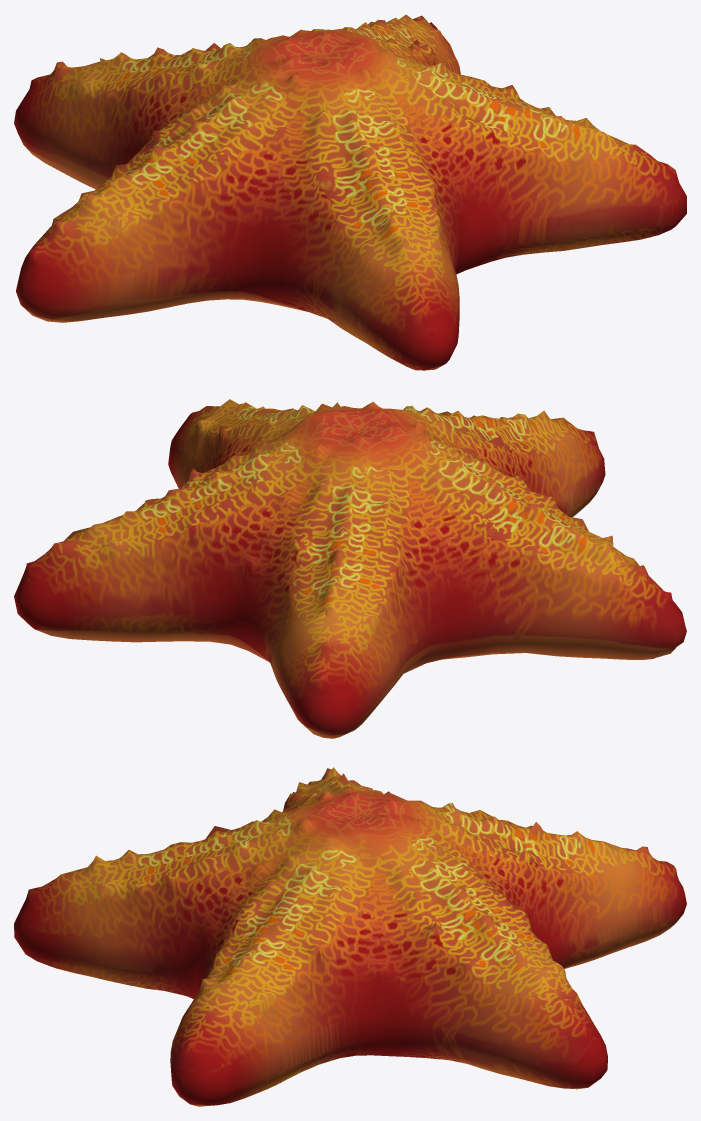
File: starfish.glb
3 views of the same model, one above another, from view 1: azimuth 30°, elevation 25°; view 2: azimuth 150°, elevation 25°; view 3: azimuth 270°, elevation 25° (orthographic). The views are drawn at different scales.
Visible parts, largest first — view 1: Object_2; view 2: Object_2; view 3: Object_2.
Part boxes in pixels (bbox=[...]): Object_2: bbox=[14, 14, 686, 370]; Object_2: bbox=[14, 399, 686, 738]; Object_2: bbox=[14, 767, 686, 1106].
Bounding box in the file's own units: 186 × 61.06 × 189.
1 material, 1 textured.
